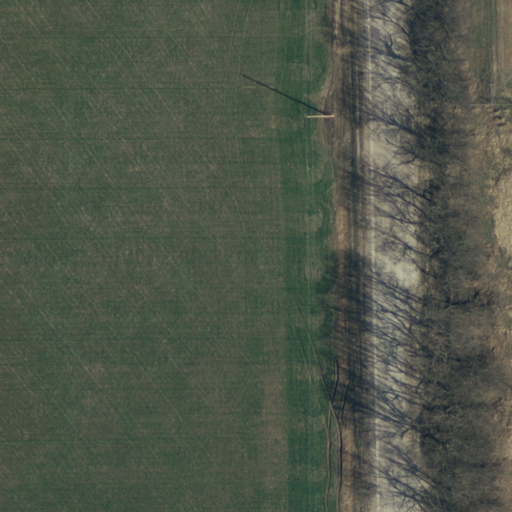DT: (297, 104, 339, 130)
